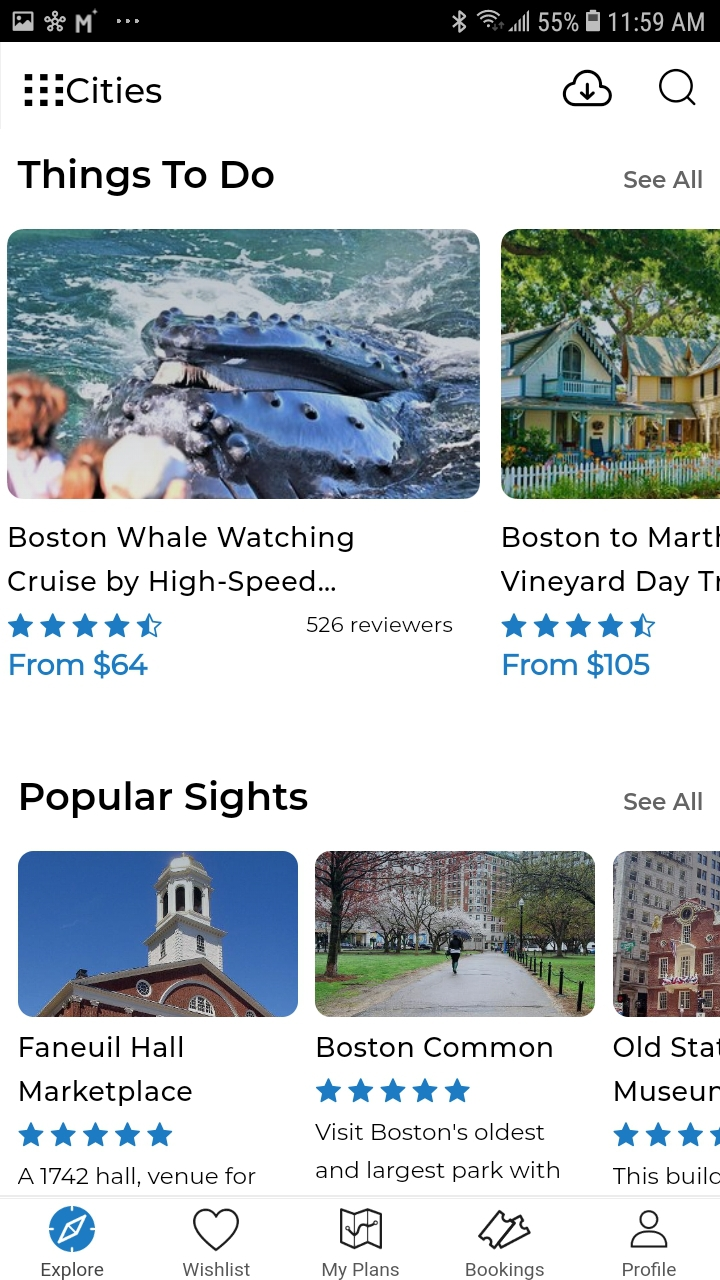Icon: (18, 1121, 173, 1147), (501, 613, 656, 638), (8, 614, 163, 639), (316, 1079, 469, 1103), (613, 1121, 720, 1147), (49, 1205, 96, 1253), (478, 1210, 531, 1250), (193, 1208, 240, 1251), (562, 70, 613, 108), (340, 1208, 383, 1249), (630, 1210, 668, 1248), (658, 69, 696, 107), (25, 74, 64, 107)
Image: (7, 230, 480, 500), (501, 230, 720, 500), (19, 851, 299, 1018), (315, 851, 596, 1017), (613, 851, 720, 1017)
Text: (9, 526, 354, 597), (501, 526, 720, 597), (316, 1123, 560, 1183), (20, 1035, 193, 1107), (22, 779, 309, 819), (19, 159, 275, 197), (613, 1035, 720, 1102), (18, 1166, 257, 1187), (318, 1037, 552, 1057), (503, 650, 649, 680), (10, 650, 149, 680), (67, 77, 163, 105), (307, 616, 452, 633), (612, 1166, 720, 1185), (624, 791, 703, 811), (624, 170, 703, 190), (466, 1261, 544, 1280), (323, 1261, 400, 1280), (42, 1261, 104, 1280), (182, 1262, 251, 1277), (622, 1262, 676, 1277)
UpperTaskBar: (1, 1, 720, 43)
